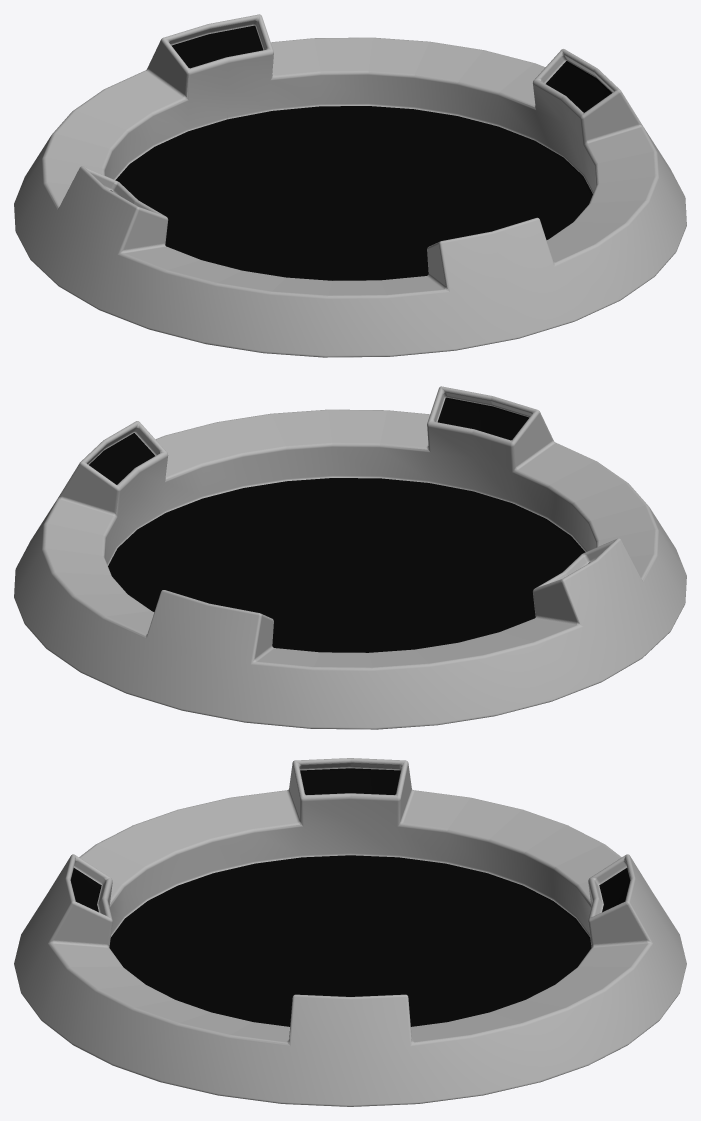
File: Ball Levitator.fbx
3 renders of one model, top to bottom at view 1: azimuth 30°, elevation 25°; view 2: azimuth 150°, elevation 25°; view 3: azimuth 270°, elevation 25°, orthographic.
Visible parts, largest first — view 1: Plane_Baked; view 2: Plane_Baked; view 3: Plane_Baked.
Boxes of the visible parts, bbox=[...] form: Plane_Baked: bbox=[14, 14, 686, 357]; Plane_Baked: bbox=[14, 386, 686, 729]; Plane_Baked: bbox=[14, 758, 686, 1106].
Bounding box in the file's own units: 185 × 26.62 × 185.
